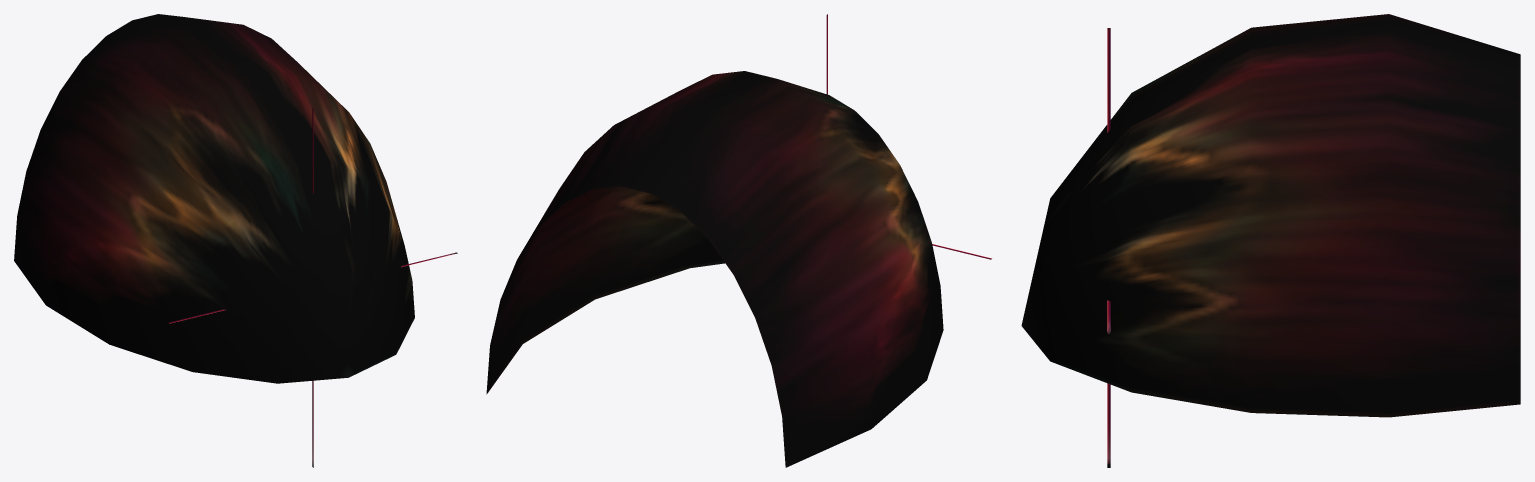
The model's file is miss_xiugai_effect.FBX.
The picture shows the model from 3 angles, left to right: view 1: azimuth 30°, elevation 25°; view 2: azimuth 150°, elevation 25°; view 3: azimuth 270°, elevation 25°; orthographic projection. The views are drawn at different scales.
Visible parts, largest first — view 1: 2_1, 1_1; view 2: 2_1; view 3: 2_1, 1_1.
Part boxes in pixels (x1,y1,x2,y2): 2_1: (14, 14, 414, 383); 1_1: (168, 108, 457, 467); 2_1: (486, 71, 943, 467); 2_1: (1021, 14, 1520, 417); 1_1: (1107, 28, 1110, 467).
Bounding box in the file's own units: 4.13 × 4.63 × 4.76.
2 materials, 2 textured.
